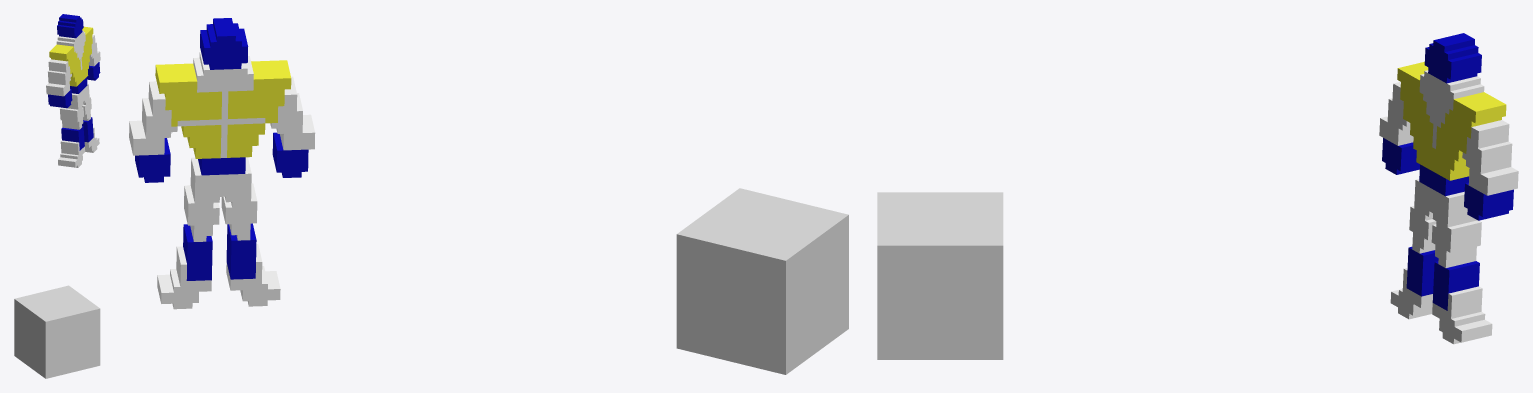
The model's file is character-game-test.glb.
The picture shows the model from 3 angles, left to right: view 1: azimuth 30°, elevation 25°; view 2: azimuth 150°, elevation 25°; view 3: azimuth 270°, elevation 25°; orthographic projection. The views are drawn at different scales.
Visible parts, largest first — view 1: Cube, ObjObject; view 2: ObjObject, Cube; view 3: ObjObject, Cube.
Boxes of the visible parts, x1=… form: Cube: x1=14, y1=285, x2=100, y2=378; ObjObject: x1=46, y1=14, x2=100, y2=167; ObjObject: x1=129, y1=18, x2=315, y2=309; Cube: x1=676, y1=188, x2=848, y2=374; ObjObject: x1=1379, y1=33, x2=1518, y2=344; Cube: x1=877, y1=192, x2=1003, y2=359.
Bounding box in the file's own units: 7.6 × 7.56 × 10.17.
Materials: 2 (1 with a texture image).
